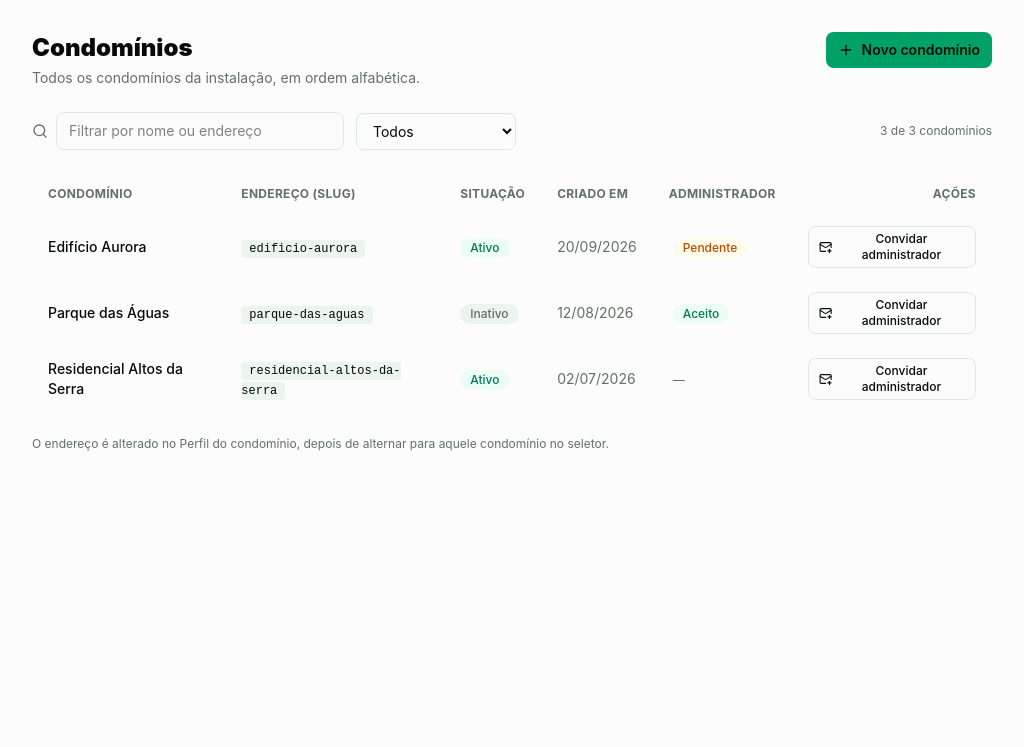
Scenario: TenantsAdminPage — inviting an administrator › closes the dialog without posting when the operator cancels
Click the button "Convidar administrador" in the row of "Edifício Aurora": [892, 247] box x1=808 y1=226 x2=976 y2=268
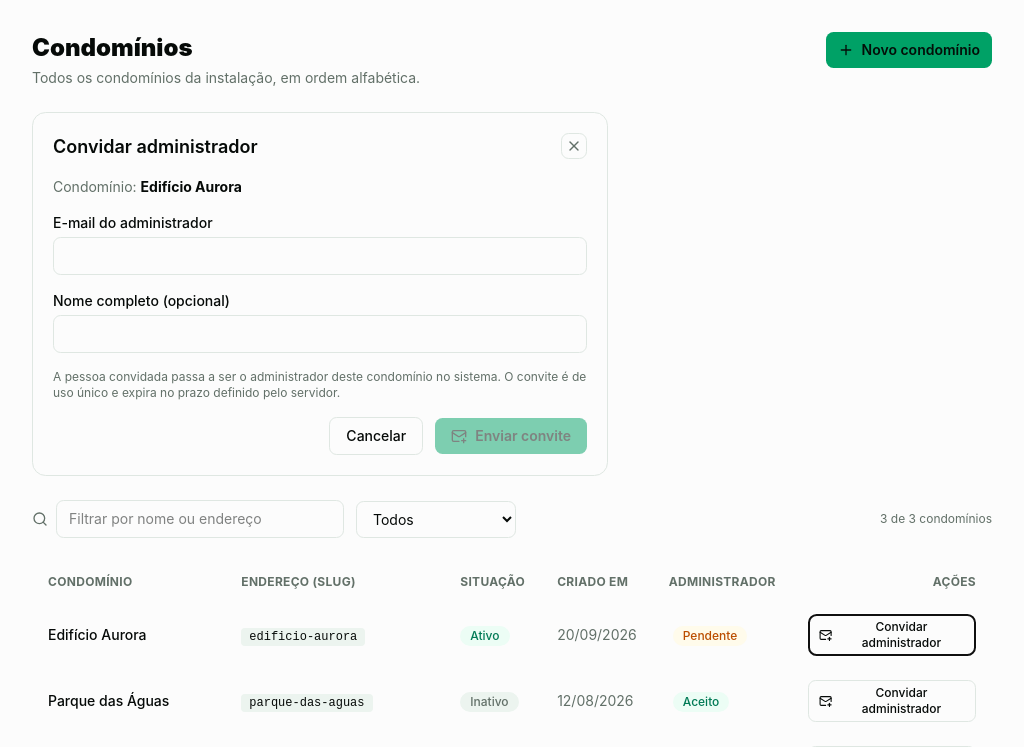
Click the button "Cancelar": [376, 436] box x1=329 y1=417 x2=423 y2=455
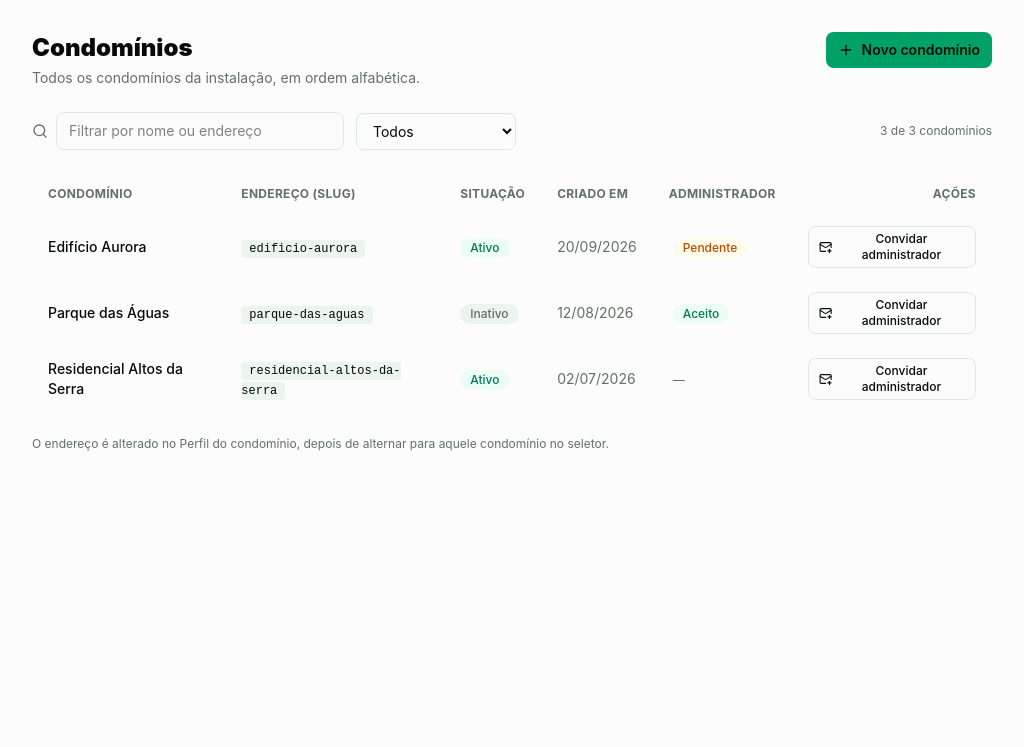
Expected: the element with test id "invite-administrator-dialog" is gone
